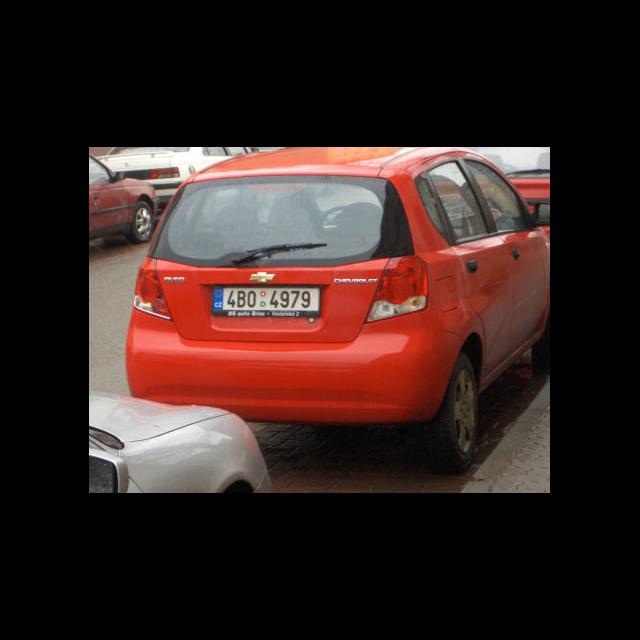Plate: (210, 283, 322, 317)
